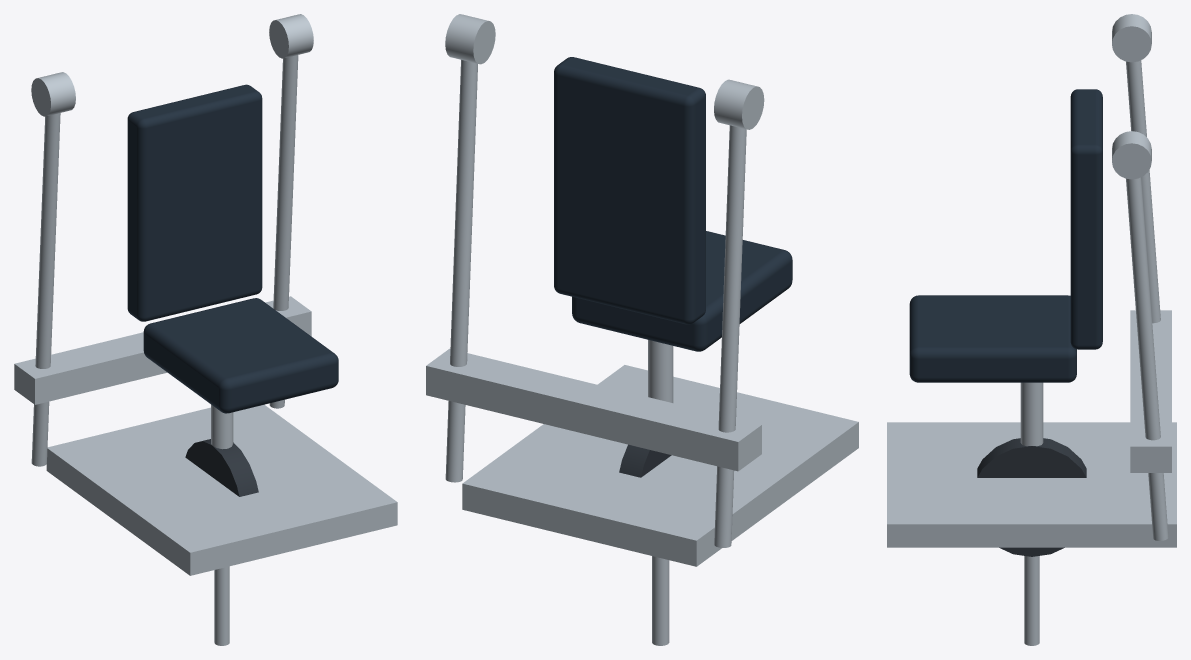
File: plate_shoulder_press.glb
3 renders of one model, left to right at view 1: azimuth 30°, elevation 25°; view 2: azimuth 150°, elevation 25°; view 3: azimuth 270°, elevation 25°, orthographic. The views are drawn at different scales.
Parts seen in each view (by area): view 1: base, back, seat, pivotBridge, Lsupport, Rsupport, LweightPlate, Lpivot, Rpivot, Llink, post; view 2: back, base, pivotBridge, seat, Lsupport, Rsupport, Rpivot, Lpivot, Llink, post, LweightPlate; view 3: base, seat, back, Rsupport, pivotBridge, LweightPlate, Lsupport, Lpivot, Rpivot, post, Llink.
Boxes of the visible parts, box(x1,y1,x2,y2) form: base: box(46, 404, 397, 575); back: box(127, 84, 262, 321); seat: box(143, 298, 338, 413); pivotBridge: box(14, 296, 311, 404); Lsupport: box(31, 113, 60, 466); Rsupport: box(269, 55, 298, 408); LweightPlate: box(185, 439, 258, 496); Lpivot: box(31, 72, 75, 116); Rpivot: box(269, 14, 313, 58); Llink: box(214, 566, 229, 645); post: box(211, 404, 233, 449); back: box(554, 57, 705, 324); base: box(462, 365, 858, 566); pivotBridge: box(426, 348, 761, 471); seat: box(572, 231, 792, 351); Lsupport: box(714, 125, 746, 547); Rsupport: box(445, 60, 477, 482); Rpivot: box(445, 14, 495, 64); Lpivot: box(714, 79, 764, 129); Llink: box(652, 556, 669, 645); post: box(648, 340, 673, 402); LweightPlate: box(619, 444, 671, 477); base: box(887, 422, 1176, 547); seat: box(909, 295, 1076, 382); back: box(1070, 89, 1102, 349); Rsupport: box(1126, 177, 1168, 540); pivotBridge: box(1130, 310, 1171, 472); LweightPlate: box(977, 438, 1086, 556); Lsupport: box(1126, 60, 1160, 323); Lpivot: box(1112, 14, 1151, 62); Rpivot: box(1112, 131, 1151, 179); post: box(1020, 382, 1043, 446); Llink: box(1024, 556, 1039, 645).
Bounding box in the file's own units: 1 × 1.93 × 0.9.
